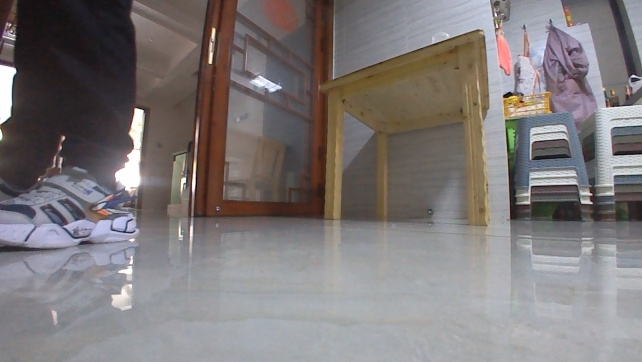shoe: (0, 162, 139, 251)
